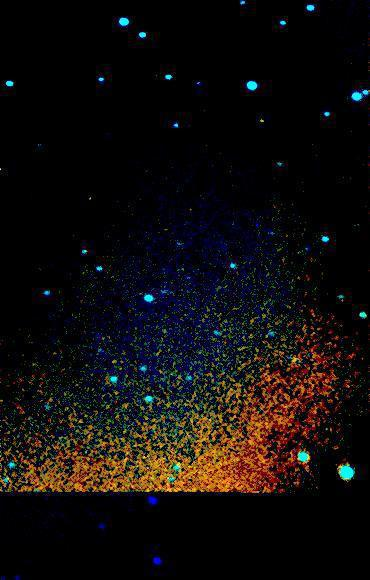star: (247, 106, 277, 136)
